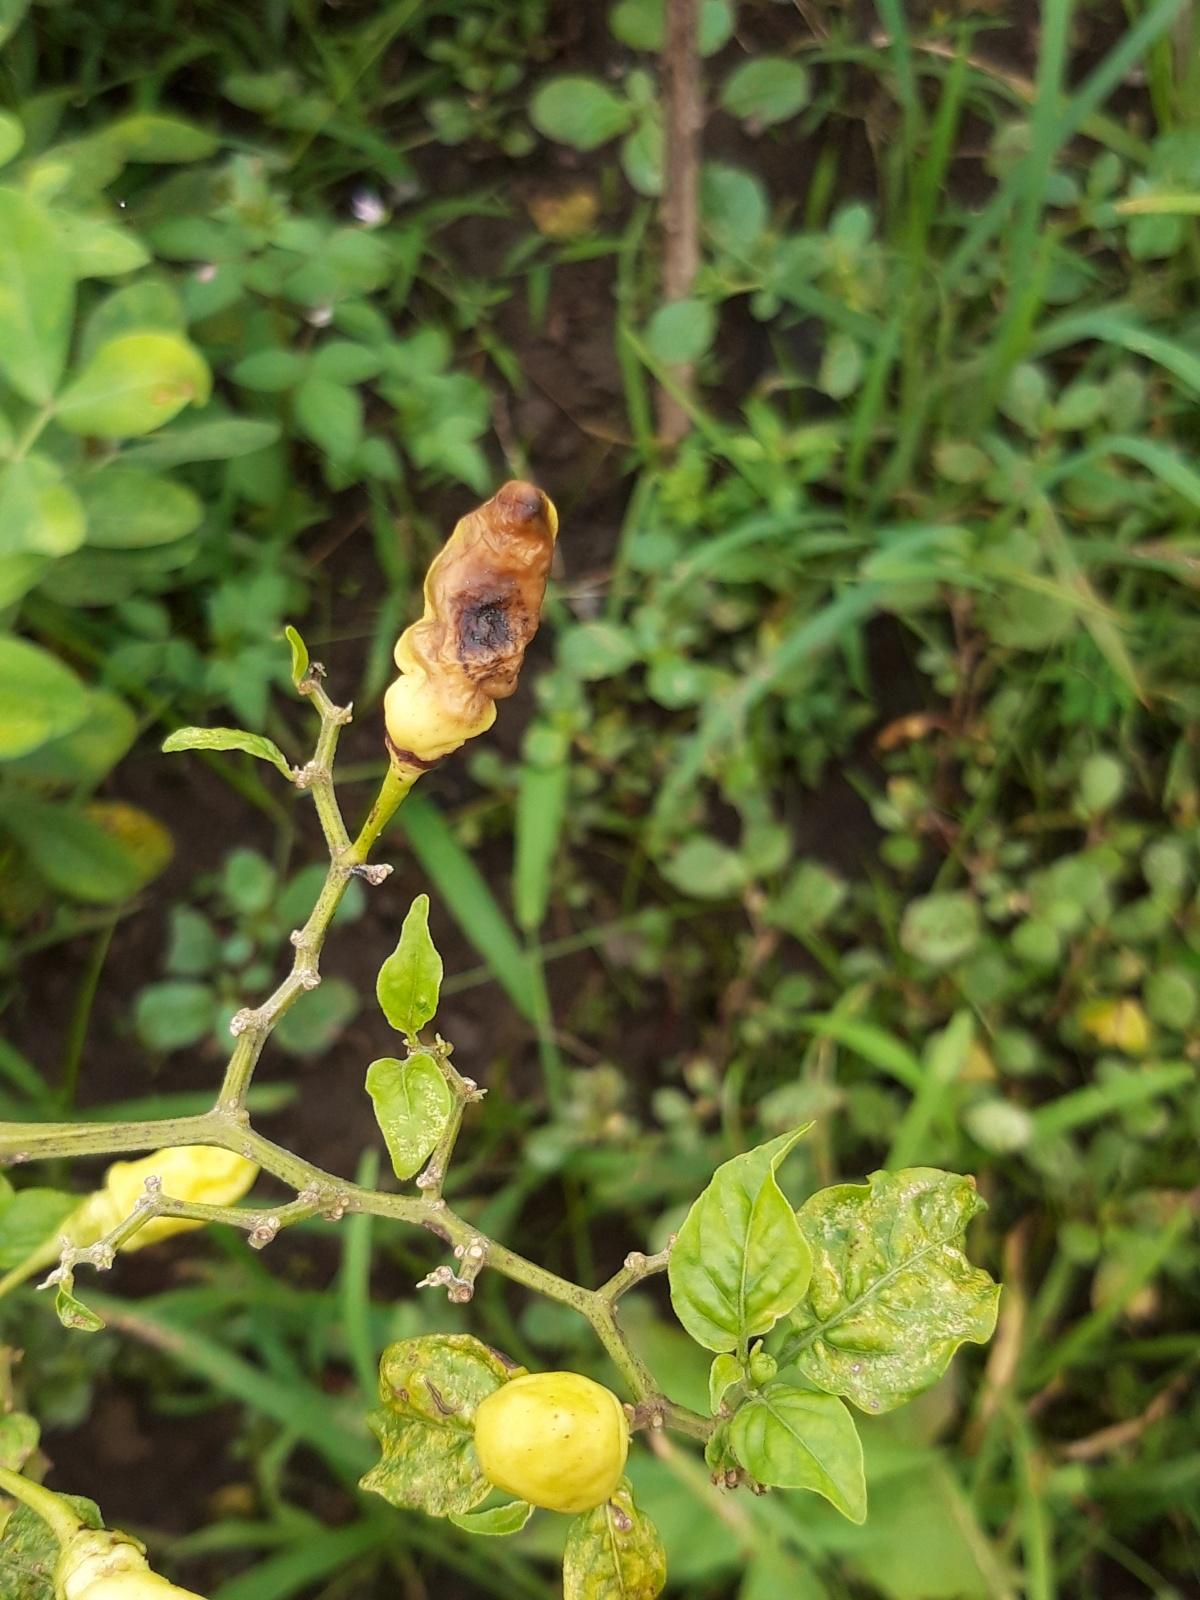antraknosa: (379, 480, 557, 785)
cabai_normal: (473, 1371, 630, 1517)
